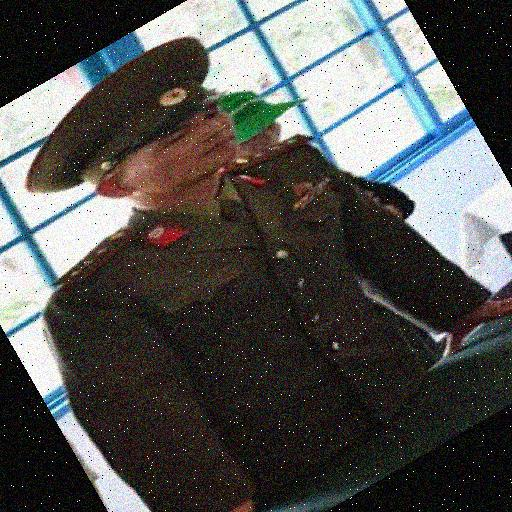north army: (35, 66, 465, 484)
